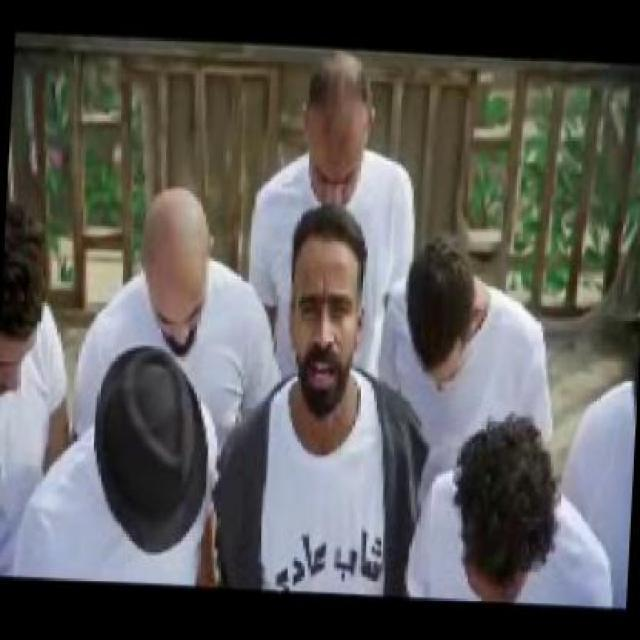non-fight: (210, 196, 436, 592), (235, 43, 423, 372), (70, 175, 290, 428), (5, 346, 222, 582), (374, 226, 558, 468), (424, 410, 616, 606)
